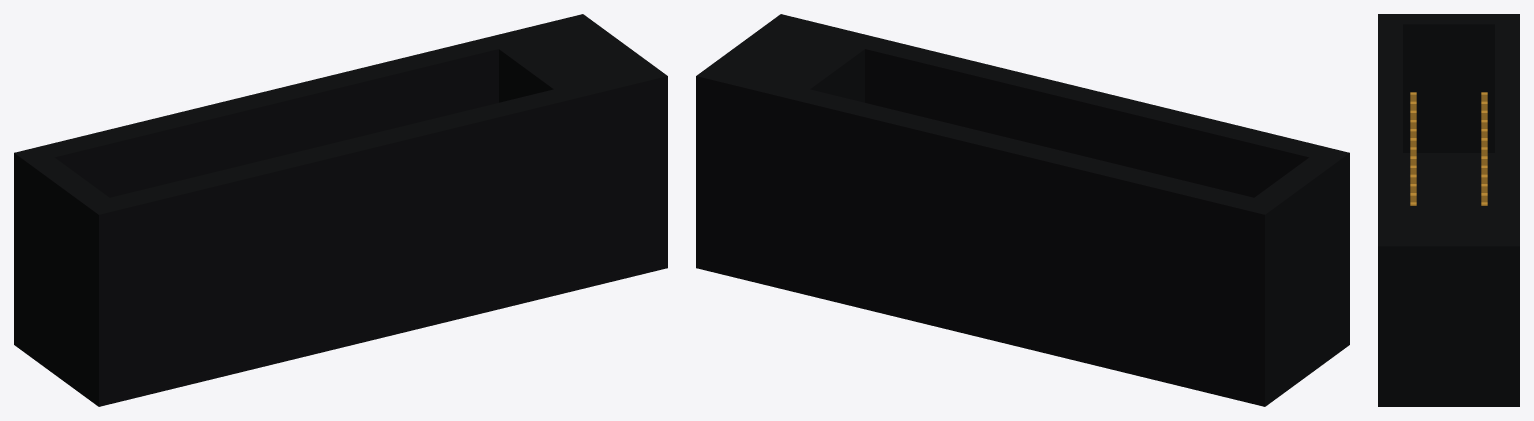
File: L131_PCIE2.fbx
3 renders of one model, left to right at view 1: azimuth 30°, elevation 25°; view 2: azimuth 150°, elevation 25°; view 3: azimuth 270°, elevation 25°, orthographic. The views are drawn at different scales.
Visible parts, largest first — view 1: PCIE2_Black; view 2: PCIE2_Black; view 3: PCIE2_Black, PCIE2_Gold.
Part boxes in pixels (<box>): PCIE2_Black: <box>14,14,667,406</box>; PCIE2_Black: <box>696,14,1349,406</box>; PCIE2_Black: <box>1378,14,1519,406</box>; PCIE2_Gold: <box>1410,92,1487,205</box>.
Bounding box in the file's own units: 3.1 × 1 × 0.8.
